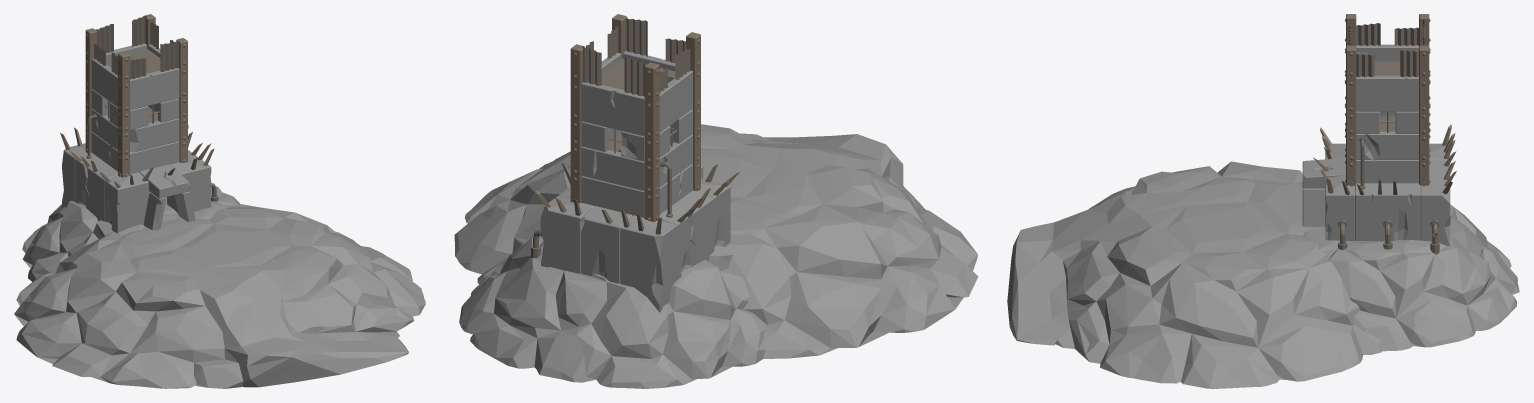
The model's file is citadel_conv.fbx.
3 renders of one model, left to right at view 1: azimuth 30°, elevation 25°; view 2: azimuth 150°, elevation 25°; view 3: azimuth 270°, elevation 25°, orthographic. The views are drawn at different scales.
Parts seen in each view (by area): view 1: poi_Tower02.001, poi_Tower02Mesh, poi_Tower02, poi_Tower02Stairs03; view 2: poi_Tower02.001, poi_Tower02Mesh, poi_Tower02, poi_Tower02Stairs03; view 3: poi_Tower02.001, poi_Tower02Mesh, poi_Tower02, poi_Tower02Stairs03.
Part boxes in pixels (box(x1,y1,x2,y2)): poi_Tower02.001: box(14, 203, 425, 388); poi_Tower02Mesh: box(60, 14, 218, 233); poi_Tower02: box(22, 186, 239, 281); poi_Tower02Stairs03: box(107, 49, 160, 107); poi_Tower02.001: box(454, 124, 978, 358); poi_Tower02Mesh: box(531, 14, 740, 312); poi_Tower02: box(459, 229, 766, 388); poi_Tower02Stairs03: box(601, 58, 675, 152); poi_Tower02.001: box(1007, 161, 1382, 388); poi_Tower02Mesh: box(1302, 14, 1456, 254); poi_Tower02: box(1302, 204, 1519, 351); poi_Tower02Stairs03: box(1356, 52, 1400, 131).
Size of what is drawn, in the model's own units: 3002 by 1749 by 3215.
